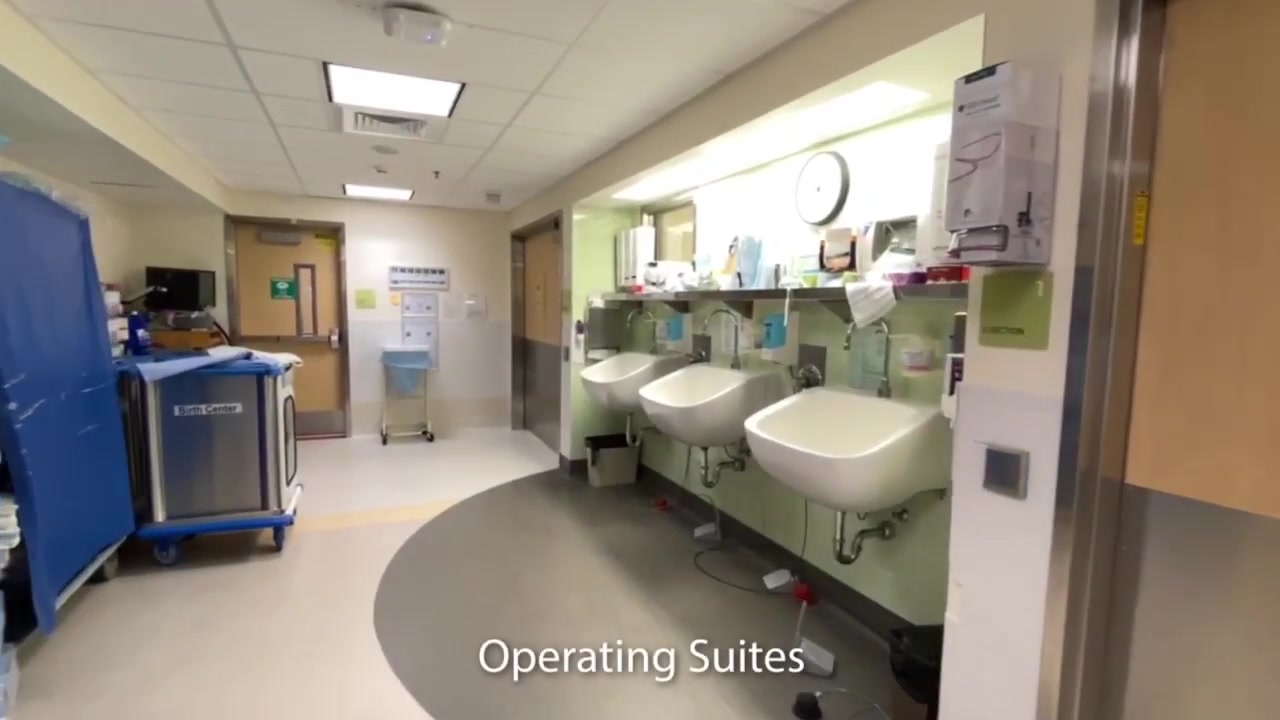computer: (146, 263, 219, 311)
dispenser: (937, 56, 1059, 285), (760, 311, 802, 367), (662, 312, 695, 356)
faucet: (842, 311, 892, 400), (703, 309, 745, 370), (626, 308, 659, 355)
press_to_open: (981, 441, 1030, 497)
push_latch: (242, 328, 340, 351)
sink: (748, 381, 949, 512), (638, 361, 780, 457), (578, 350, 664, 415)
waste_bin: (378, 343, 436, 448), (887, 621, 938, 720), (583, 433, 639, 487)
